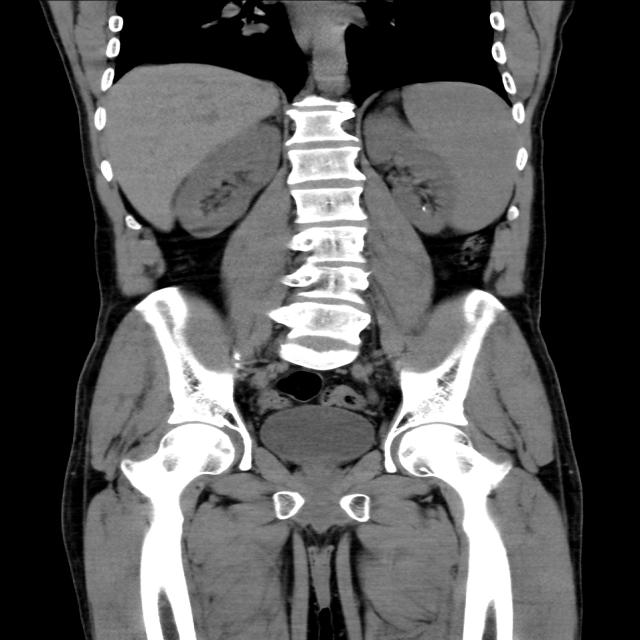kidneystone: (421, 205, 426, 211)
